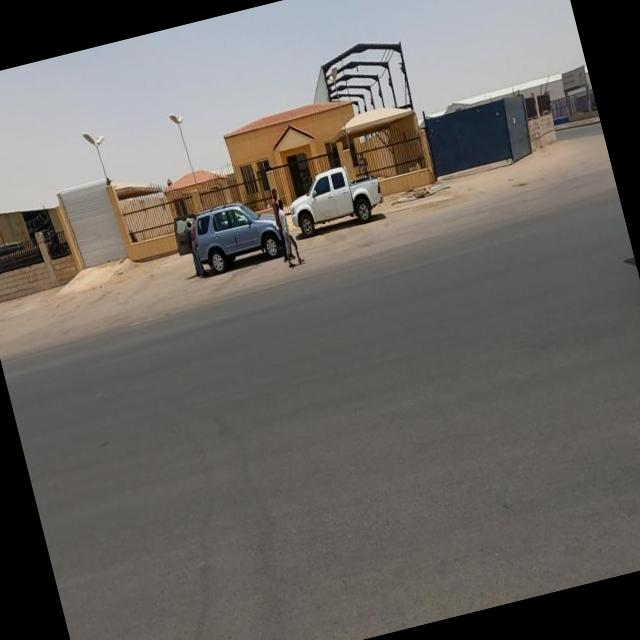debris: (357, 140, 481, 231)
